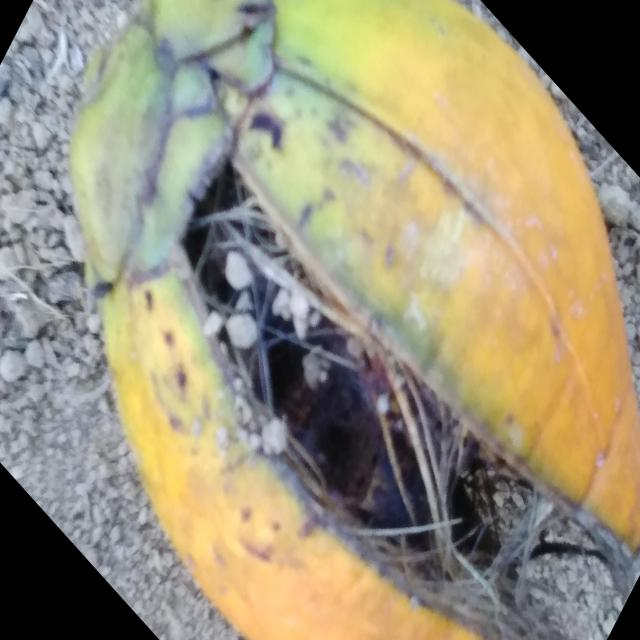damaged: (68, 0, 640, 640)
